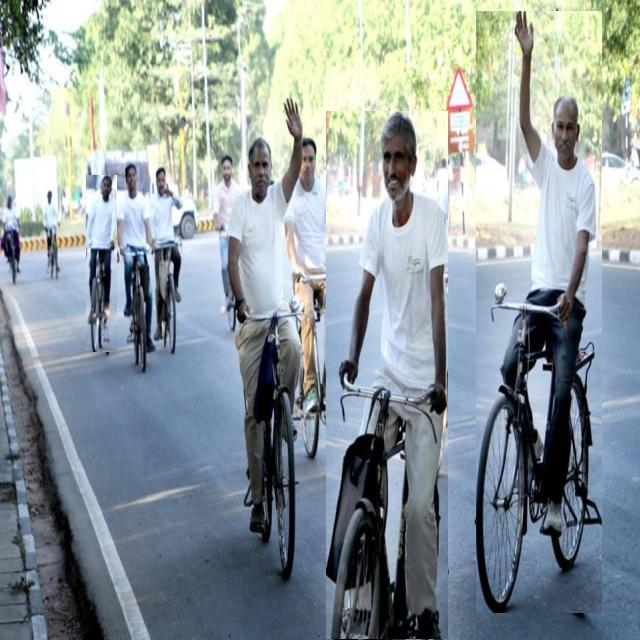bicycle: (476, 11, 601, 613), (326, 111, 448, 640), (229, 100, 302, 578), (118, 162, 155, 371), (150, 167, 182, 353), (86, 176, 116, 352)
